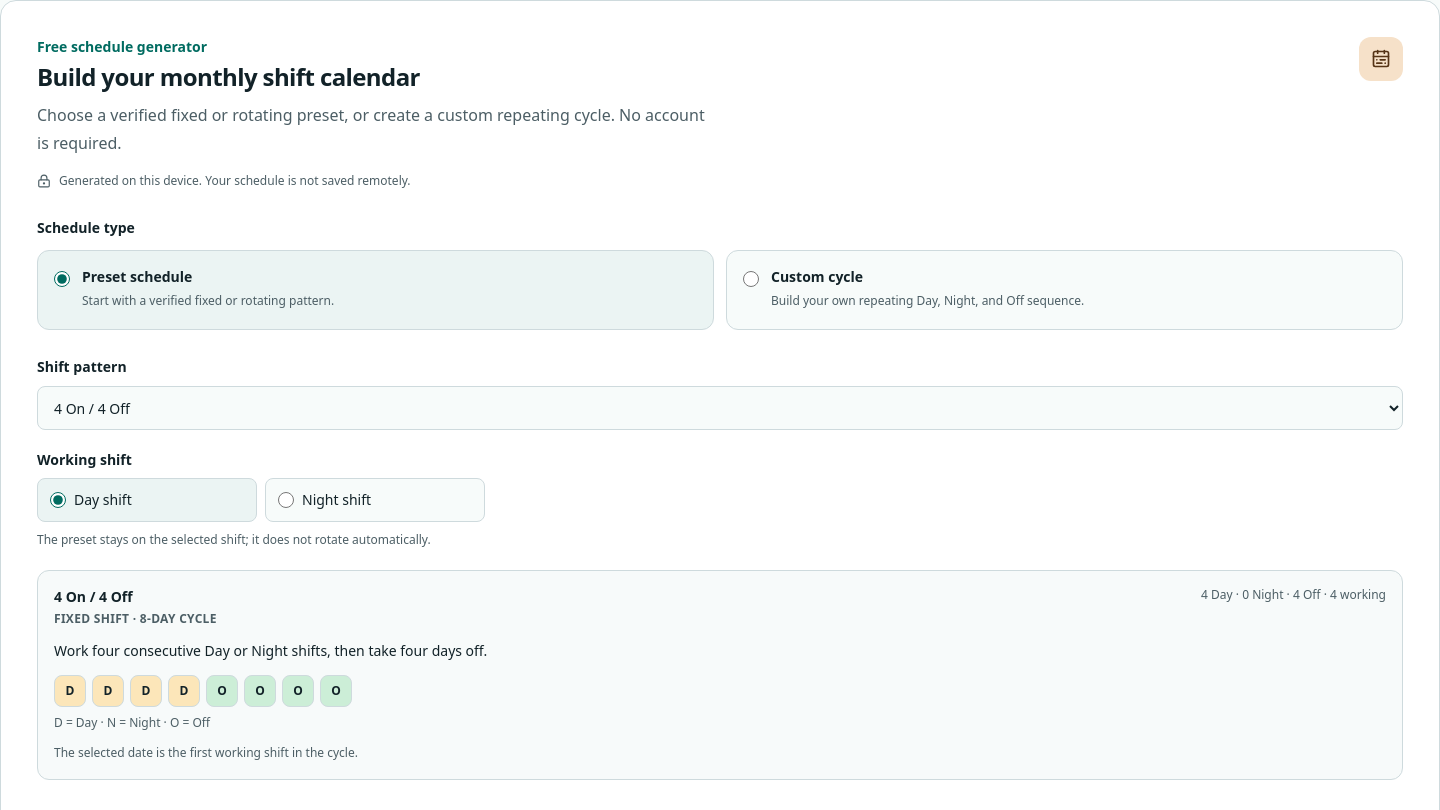
generator form › switches to an editable custom cycle
Click the radio button labelled "Custom cycle" at (751, 279), box [743,271,759,287]
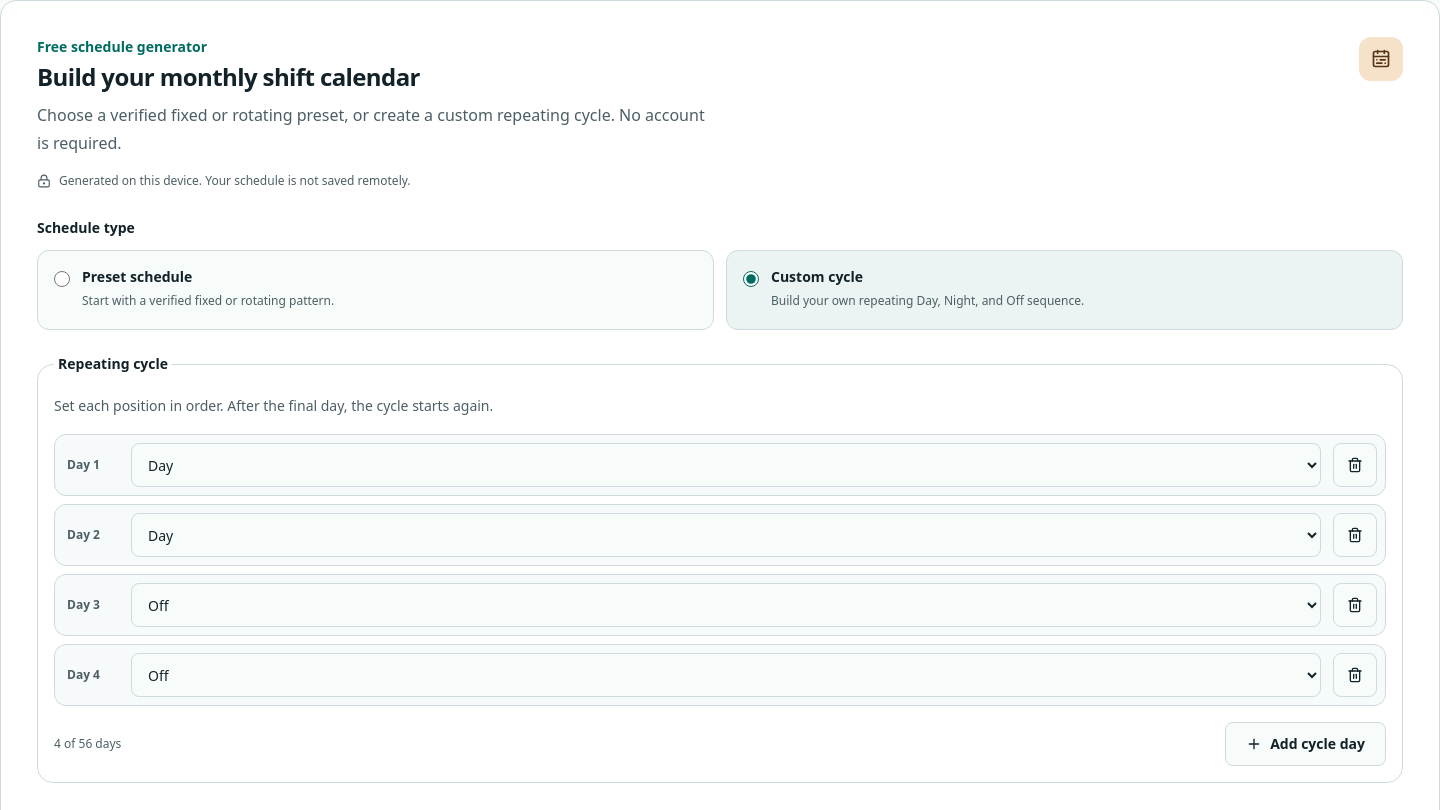
Check: the element "Repeating cycle" is shown, box [37,354,1403,783]
Check: the 1st dropdown named "shift for cycle day 1" shows "Day", box [131,443,1321,487]
Check: the 3rd dropdown named "shift for cycle day 3" shows "Off", box [131,583,1321,627]
